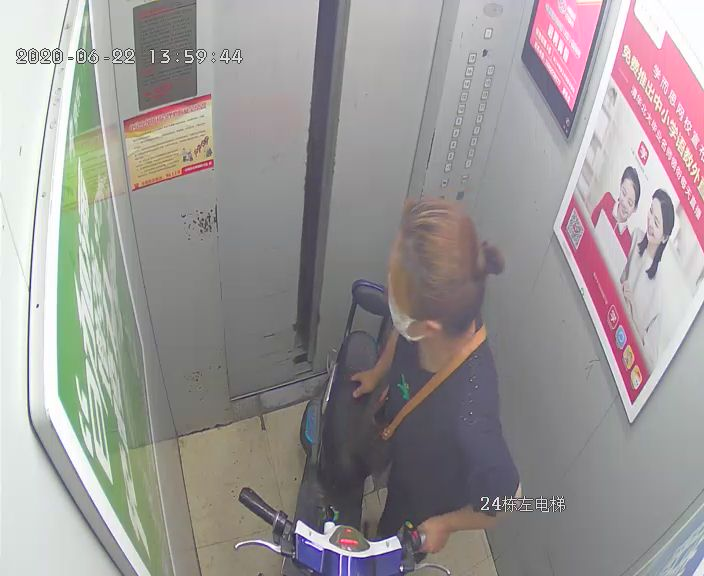Electric-bicycle: (233, 287, 450, 576)
